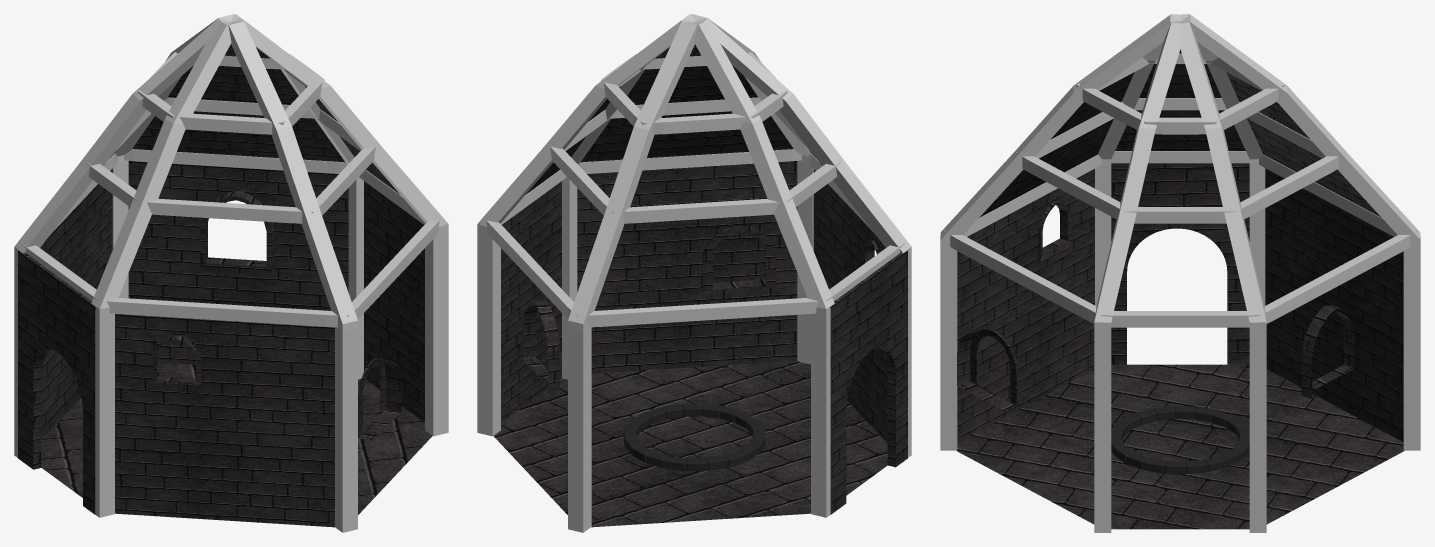
The model's file is PoglądowaChatka.fbx.
3 renders of one model, left to right at view 1: azimuth 30°, elevation 25°; view 2: azimuth 150°, elevation 25°; view 3: azimuth 270°, elevation 25°, orthographic.
Visible parts, largest first — view 1: Cylinder.001, Cylinder.003, Cylinder.002; view 2: Cylinder.001, Cylinder.003, Cylinder.002, Cube; view 3: Cylinder.001, Cylinder.003, Cylinder.002, Cube.
Part boxes in pixels (box(x1,y1,x2,y2)): Cylinder.001: box(18, 44, 424, 527); Cylinder.003: box(14, 14, 448, 532); Cylinder.002: box(41, 362, 432, 514); Cylinder.001: box(501, 44, 907, 514); Cylinder.003: box(477, 14, 911, 532); Cylinder.002: box(493, 361, 887, 527); Cube: box(623, 403, 765, 470); Cylinder.001: box(957, 49, 1403, 442); Cylinder.003: box(940, 14, 1420, 532); Cylinder.002: box(956, 364, 1404, 529); Cube: box(1111, 406, 1249, 474).
Bounding box in the file's own units: 6.75 × 7.85 × 7.96.
